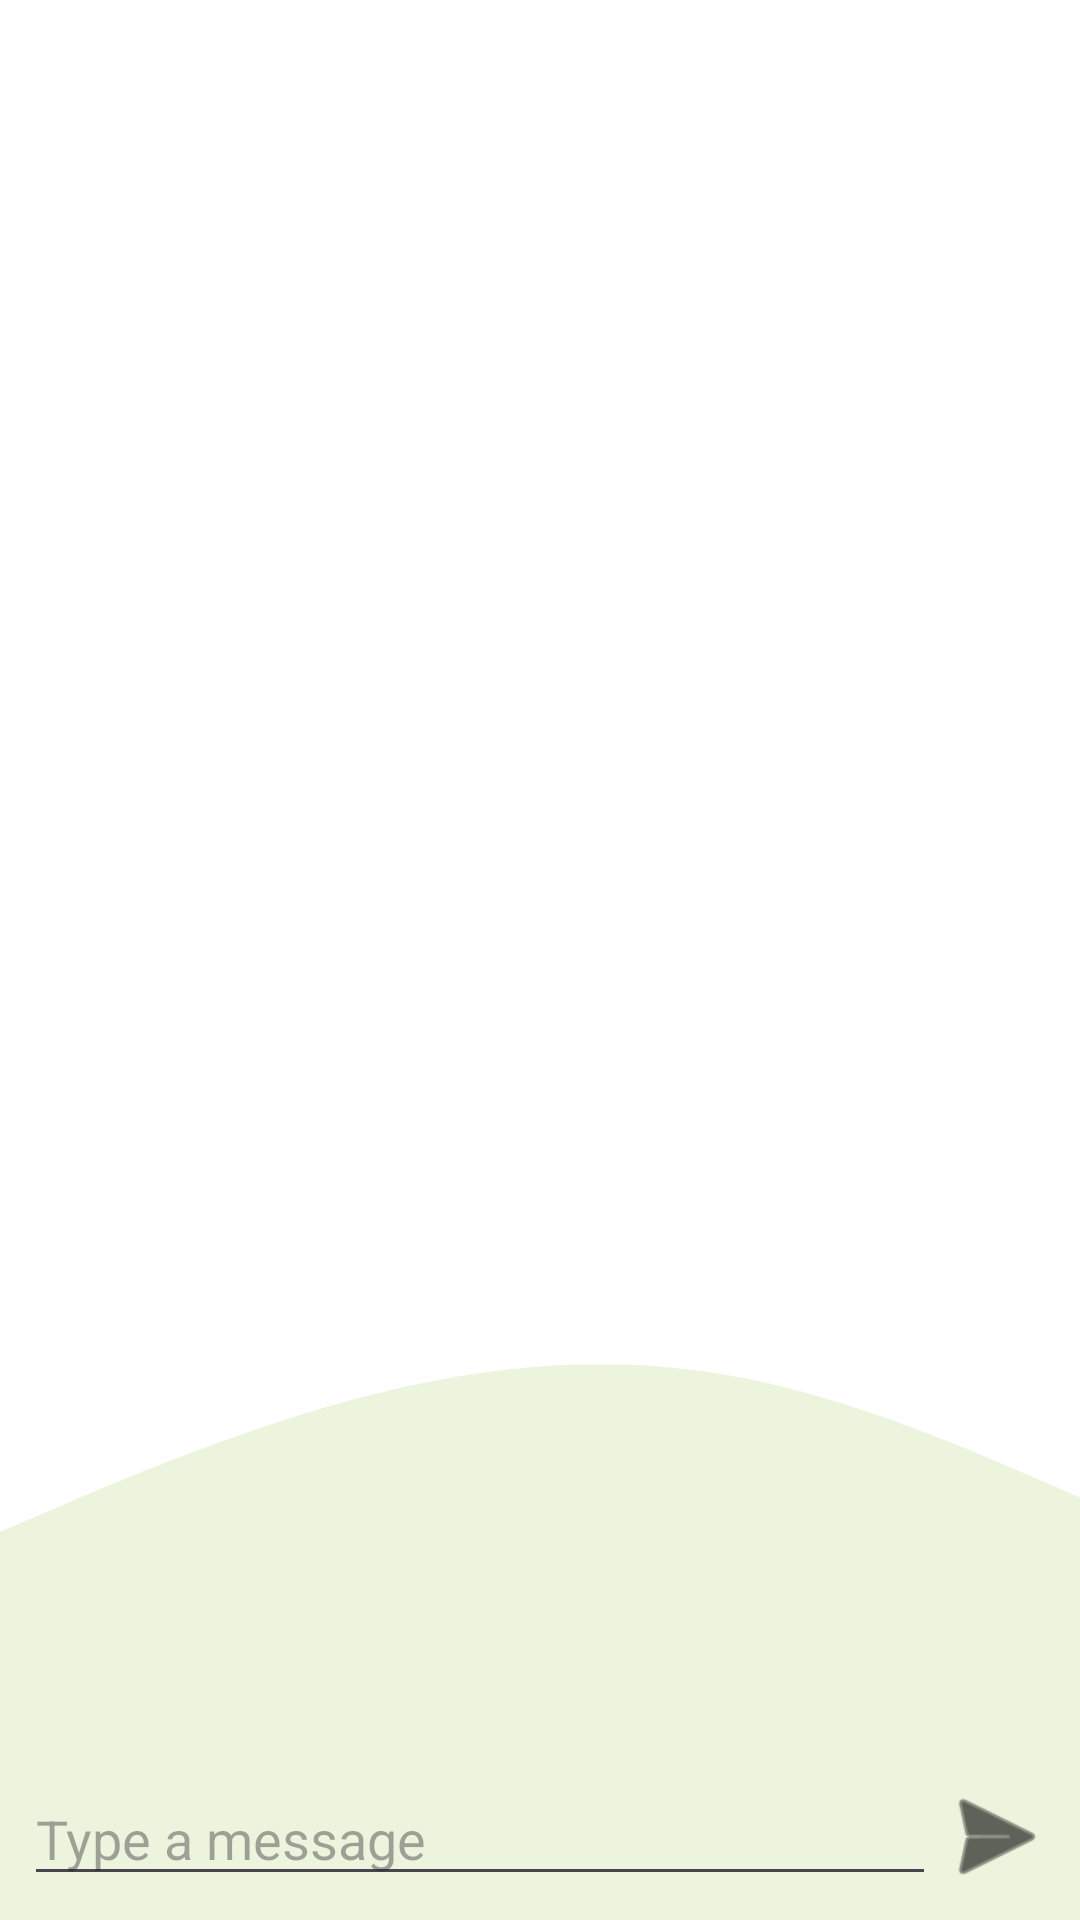

Icon click points for this 1080 × 1920 phone screenshot, format [x,y]:
send: [997,1837]
